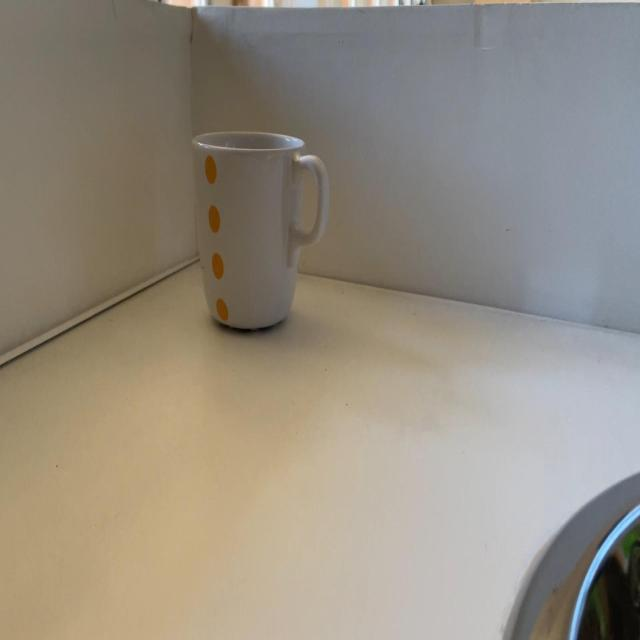cup: (190, 128, 330, 334)
